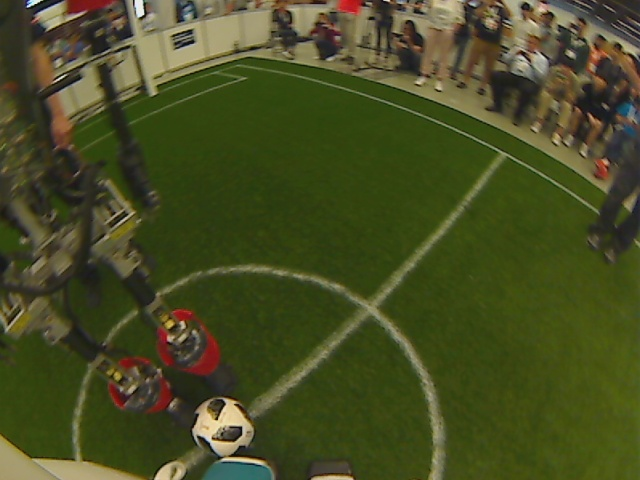ball: (189, 392, 258, 459)
